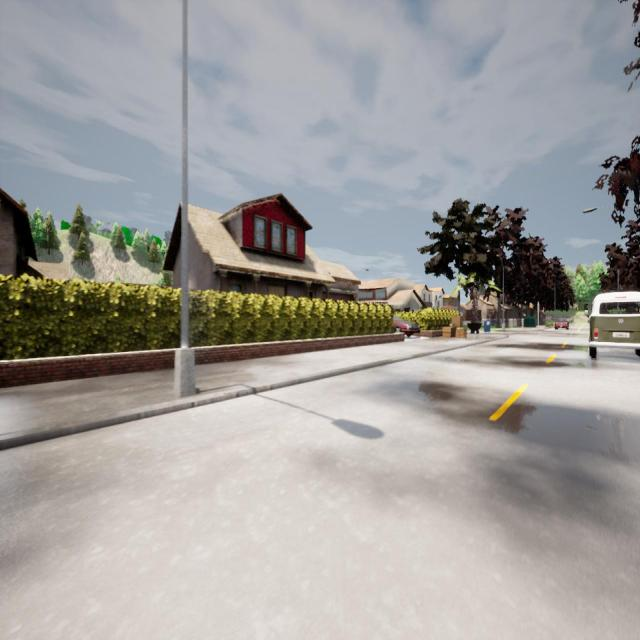Vehicle: (584, 292, 640, 358), (393, 314, 421, 338), (554, 316, 569, 330)
